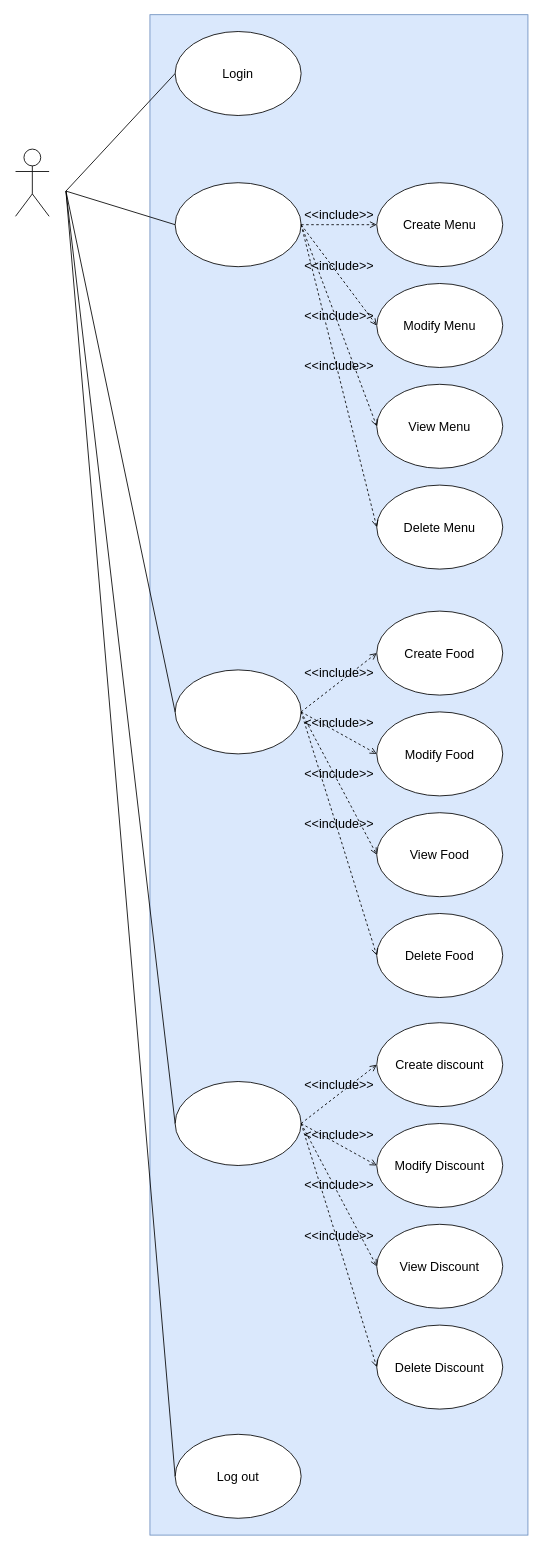
The diagram is 543 pixels wide and 1550 high, and some of its shapes have lost their labels. Each missing label, with the centre of its shape:
Director: (x=32, y=182)
Discount Manage: (x=237, y=1123)
Food Manage: (x=237, y=711)
Menu Manage: (x=237, y=224)
